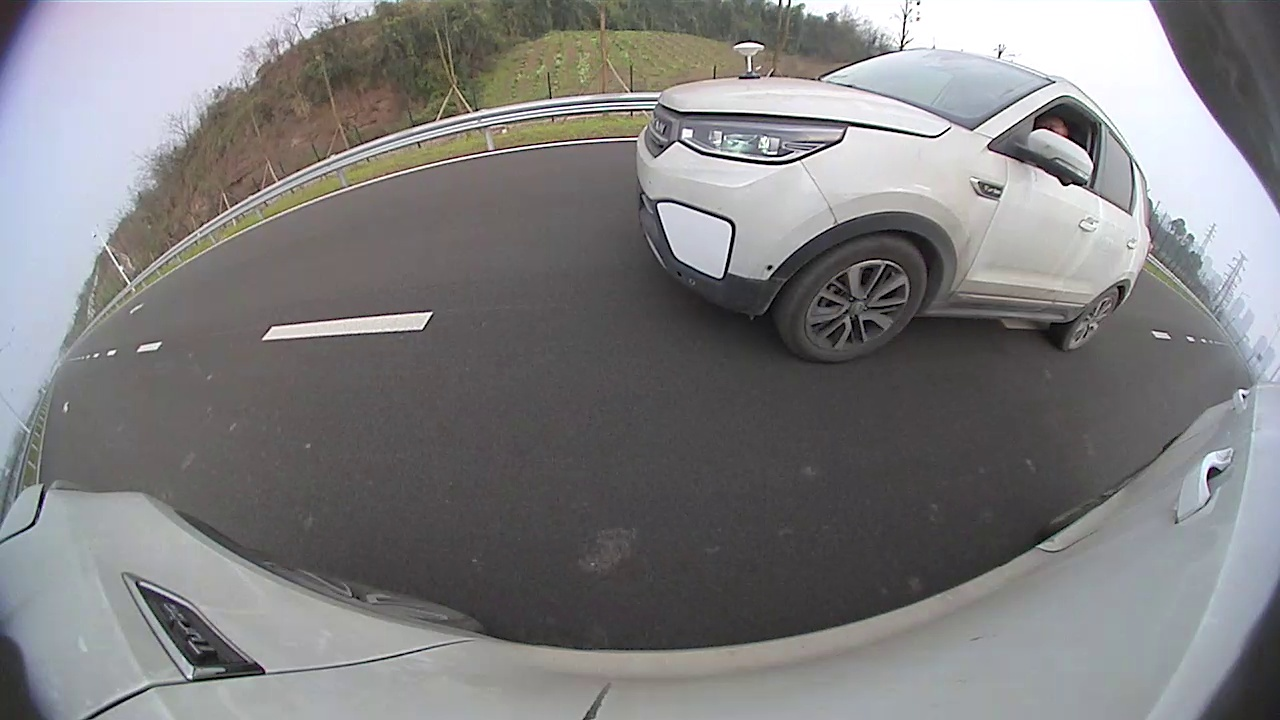car: (634, 39, 1151, 363)
front: (783, 239, 926, 361)
rear: (1061, 285, 1120, 351)
